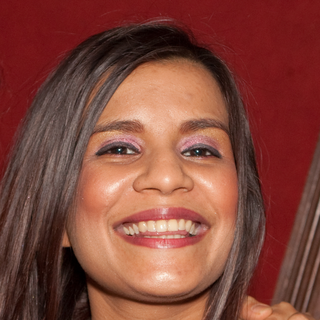eye: (94, 138, 144, 162), (176, 138, 222, 163)
